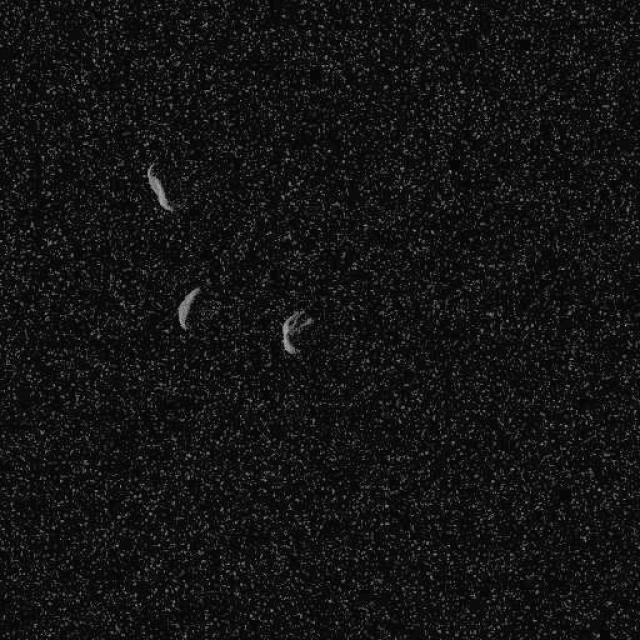D2: (280, 308, 312, 357), (145, 160, 174, 212), (176, 285, 202, 330)
